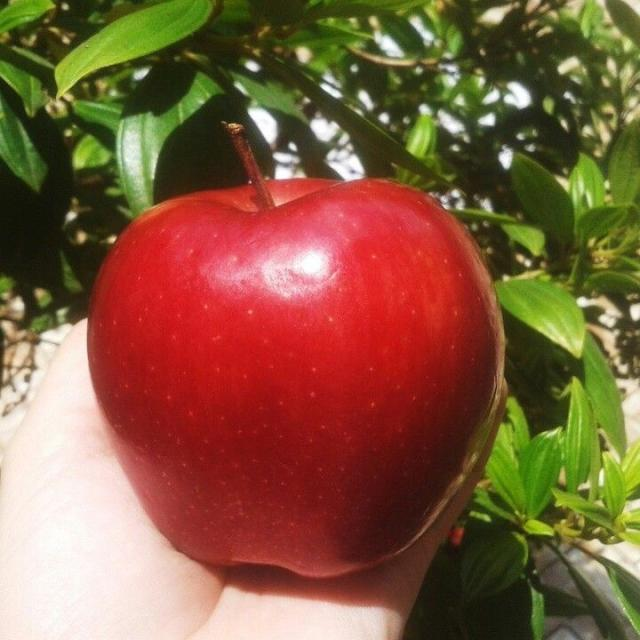apple: (88, 179, 503, 576)
